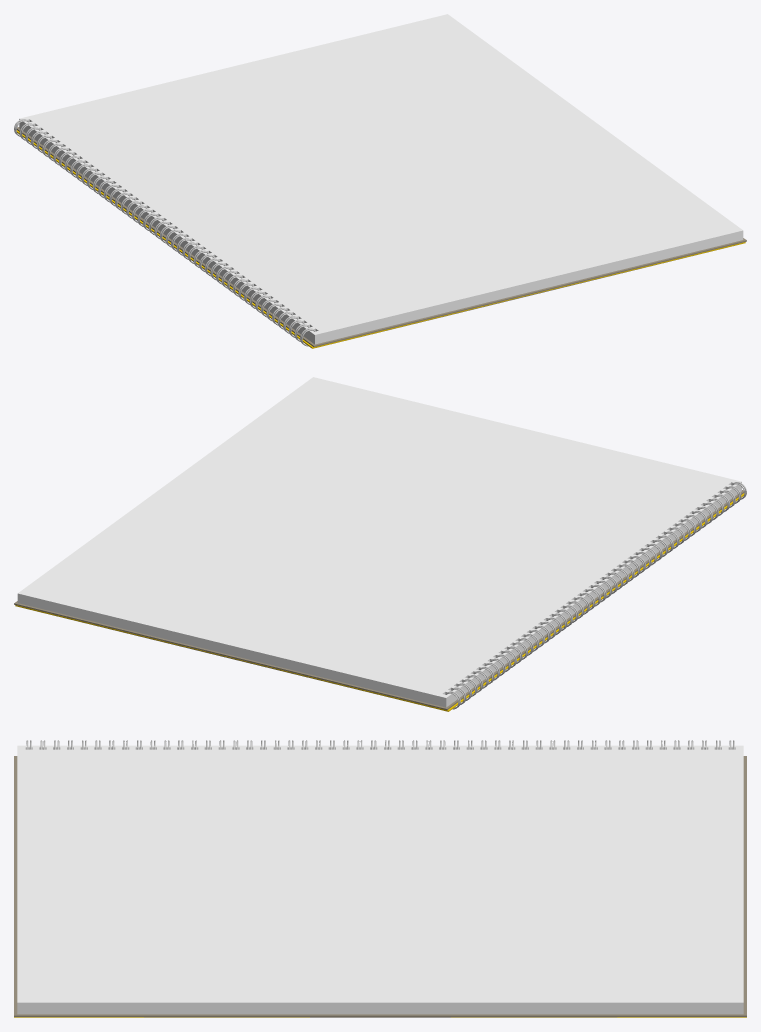
File: 434_スケッチブック大開.glb
The picture shows the model from 3 angles, top to bottom: view 1: azimuth 30°, elevation 25°; view 2: azimuth 150°, elevation 25°; view 3: azimuth 270°, elevation 25°; orthographic projection. The views are drawn at different scales.
Visible parts, largest first — view 1: youshi, ring, daishi_ura, daishi_omote; view 2: youshi, ring, daishi_ura, daishi_omote; view 3: youshi, daishi_ura, ring, daishi_omote.
Part boxes in pixels (x1=…): youshi: x1=19, y1=14, x2=743, y2=344; ring: x1=14, y1=119, x2=315, y2=346; daishi_ura: x1=16, y1=127, x2=746, y2=346; daishi_omote: x1=16, y1=130, x2=745, y2=348; youshi: x1=17, y1=377, x2=741, y2=707; ring: x1=445, y1=482, x2=746, y2=709; daishi_ura: x1=14, y1=490, x2=745, y2=710; daishi_omote: x1=15, y1=493, x2=744, y2=711; youshi: x1=17, y1=745, x2=743, y2=1014; daishi_ura: x1=14, y1=756, x2=746, y2=1016; ring: x1=26, y1=740, x2=734, y2=749; daishi_omote: x1=14, y1=1017, x2=746, y2=1017.
Size of the model in its own units: 0.385 by 0.014 by 0.452.
Materials: 4 (1 with a texture image).
